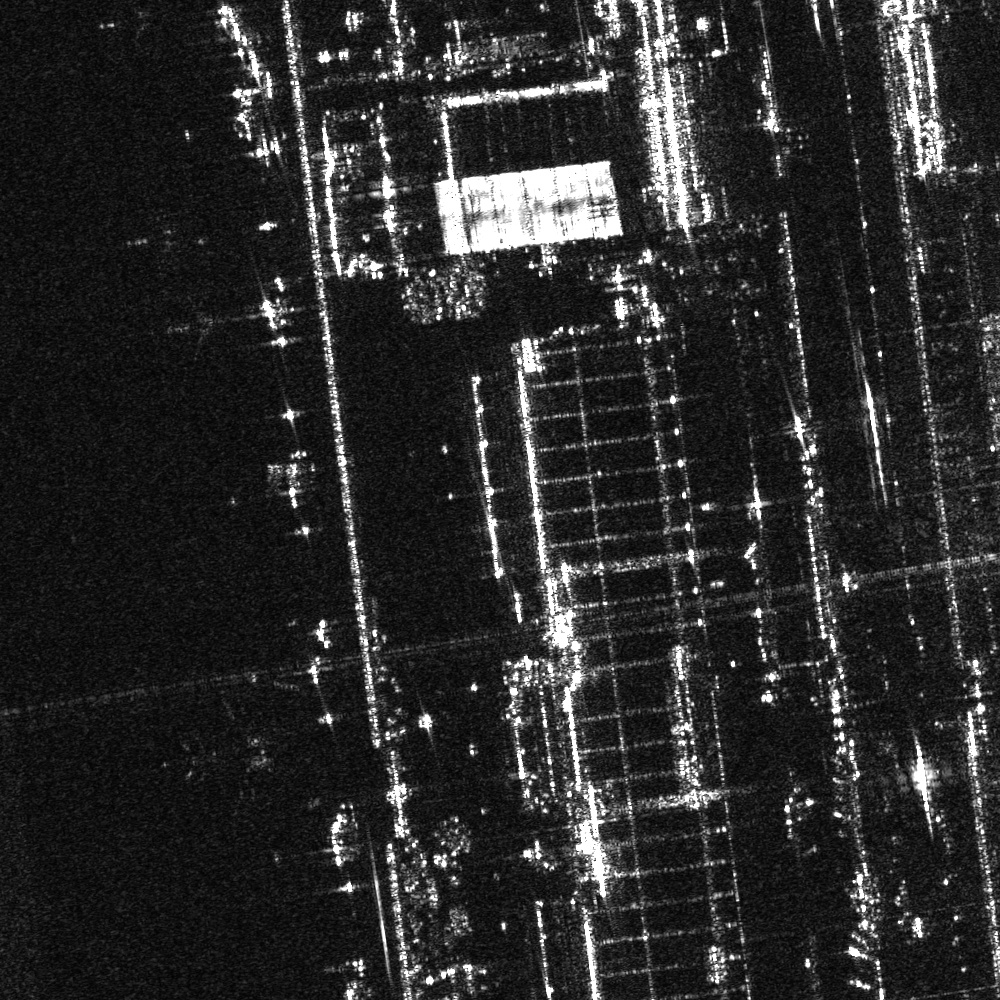A220: (151, 288, 220, 365)
